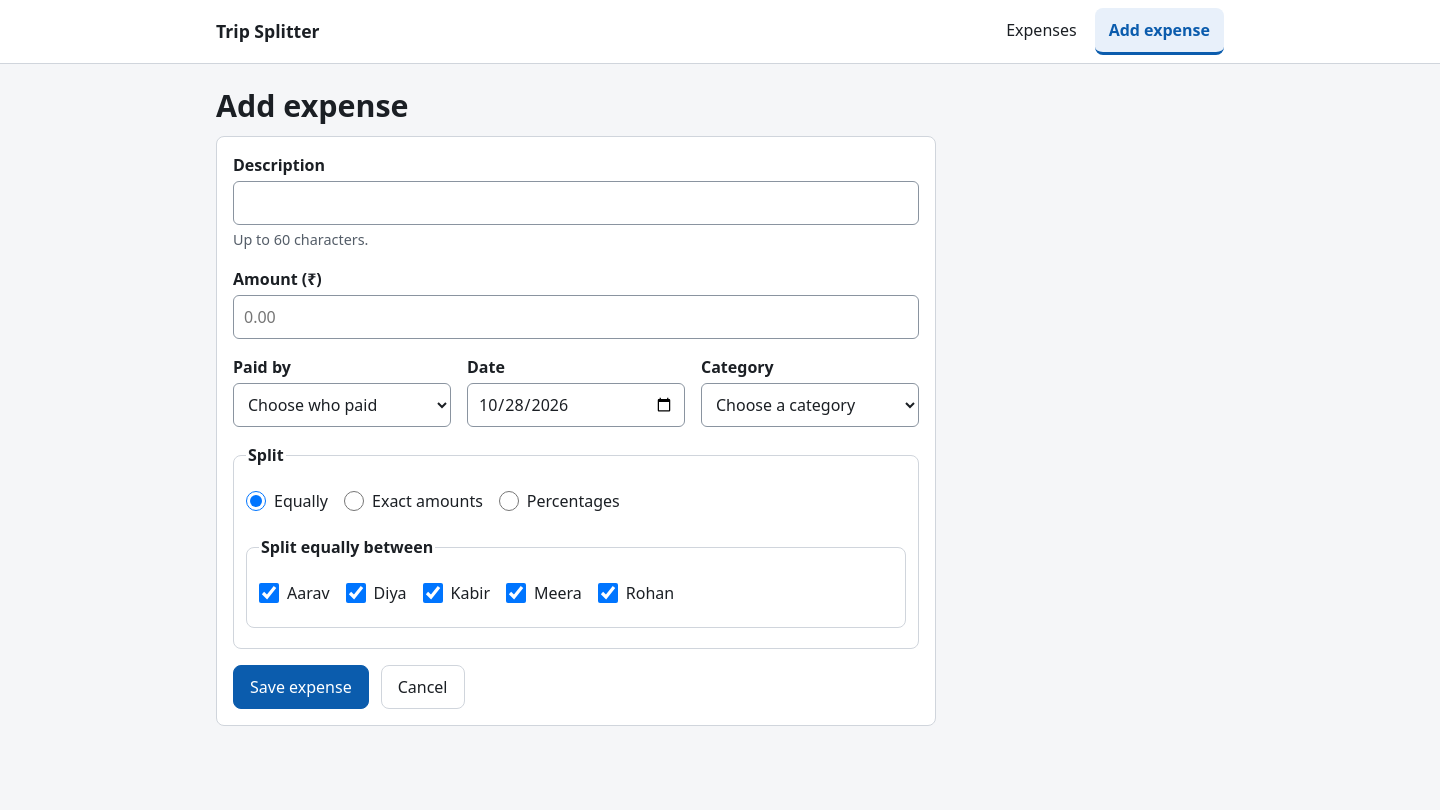
Scenario: Add expense form: valid input › saves the expense, returns to Expenses with a message, and updates balances
The width and height of the screenshot is (1440, 810).
Type "Dinner at Thalassa" into the field labelled "Description" at (576, 204), box top-left (233, 182), bottom-right (919, 226)
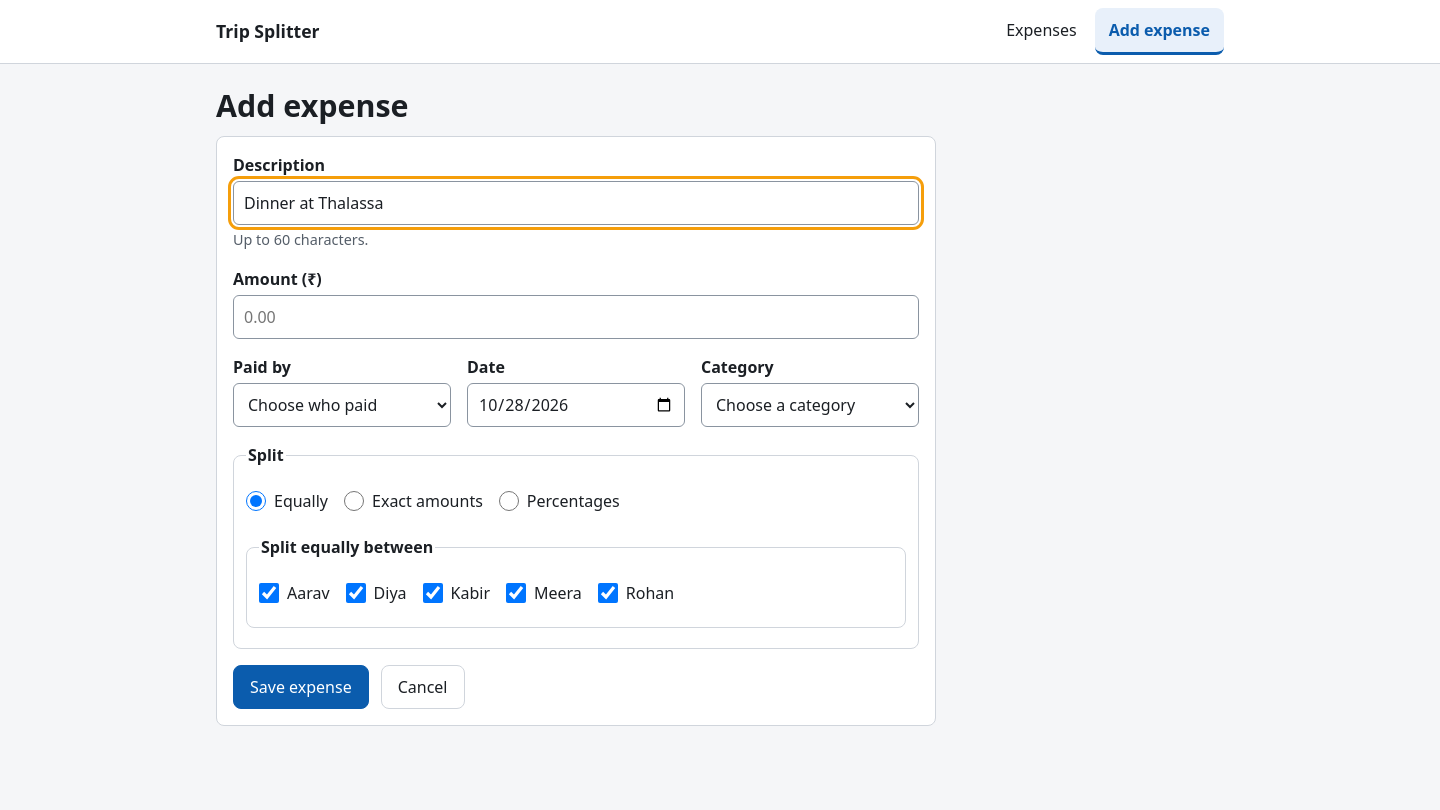
Type "1500" into the field labelled "Amount (₹)" at (576, 317), box top-left (233, 295), bottom-right (919, 339)
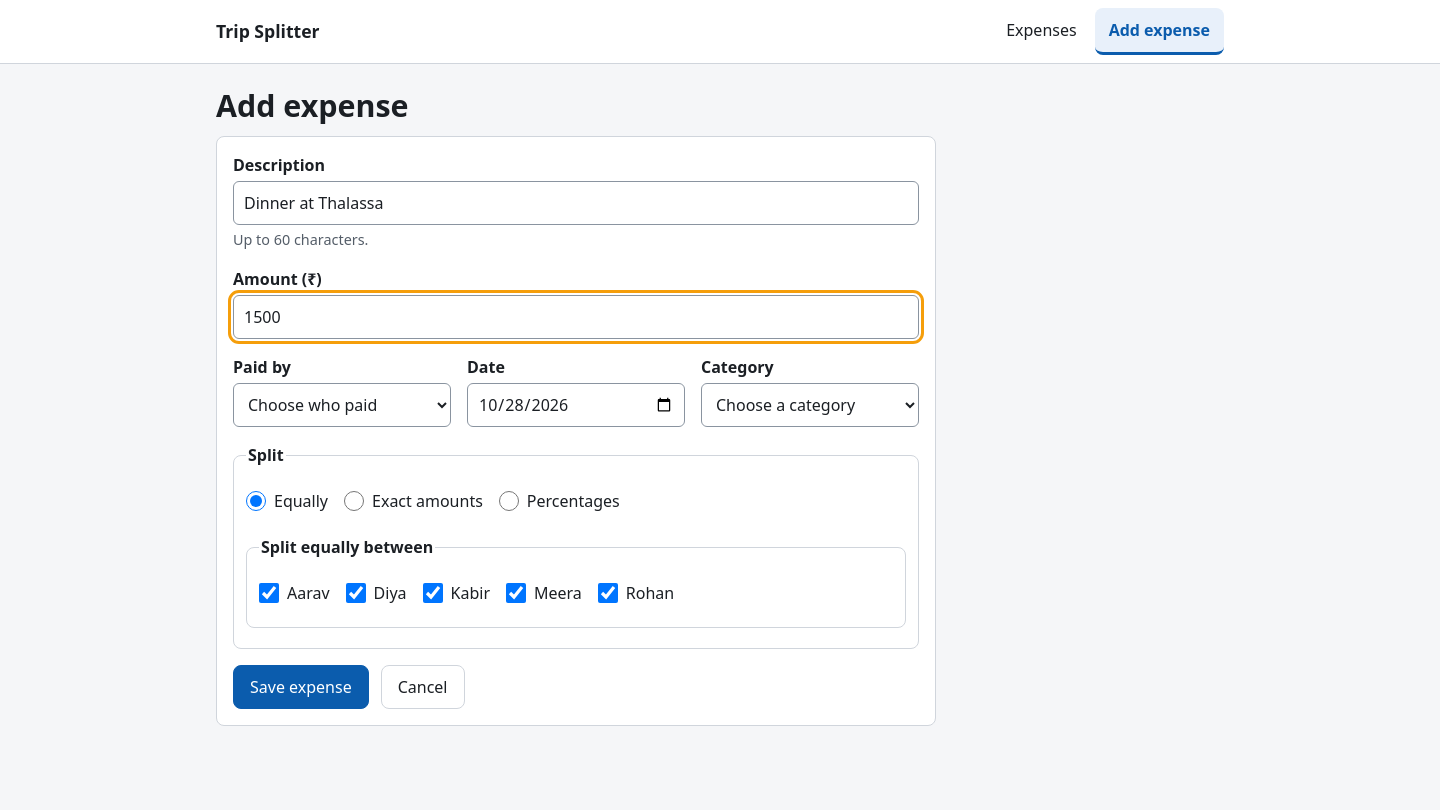
Select "Diya" in the dropdown labelled "Paid by" at (342, 405), box top-left (233, 383), bottom-right (451, 427)
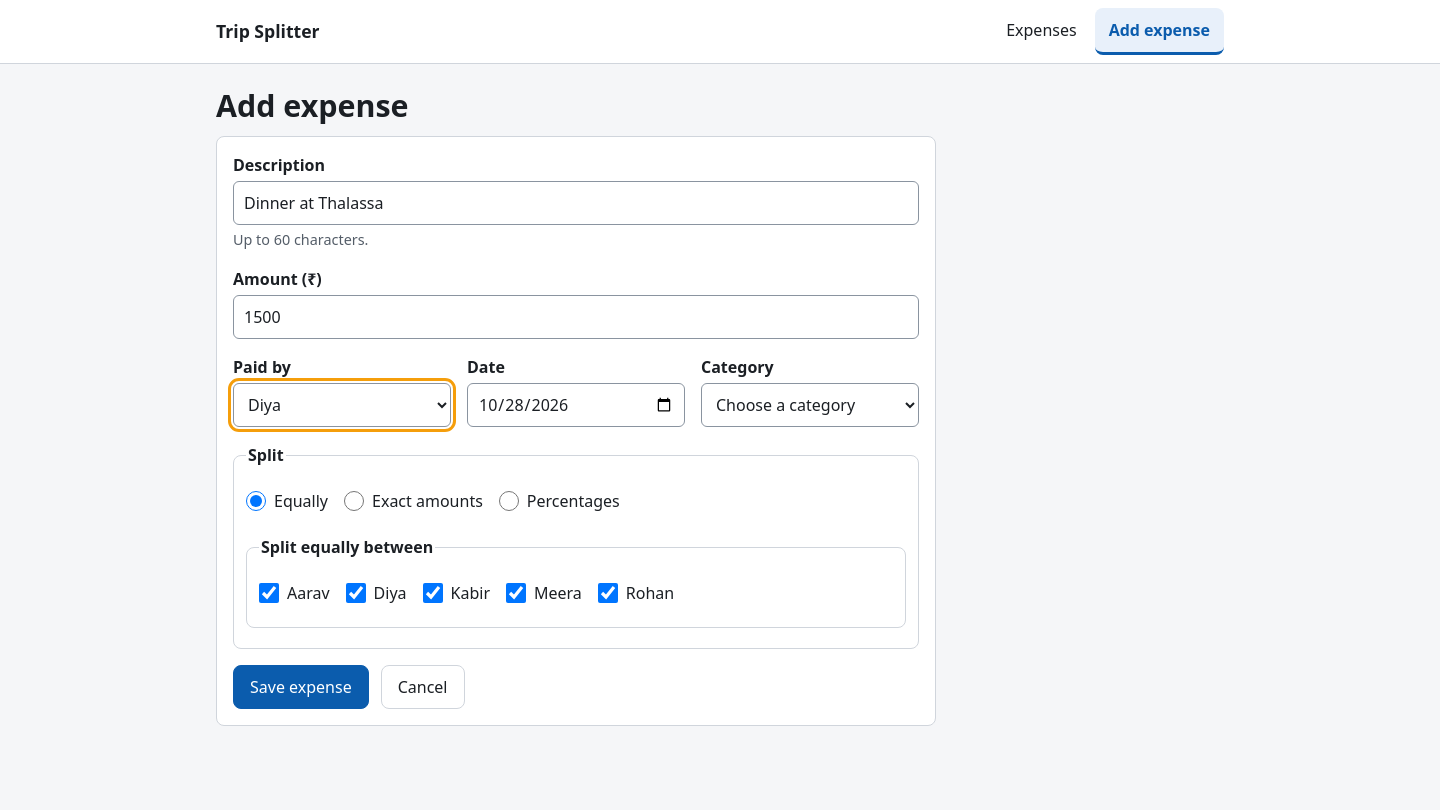
Select "Food" in the dropdown labelled "Category" at (810, 405), box top-left (701, 383), bottom-right (919, 427)
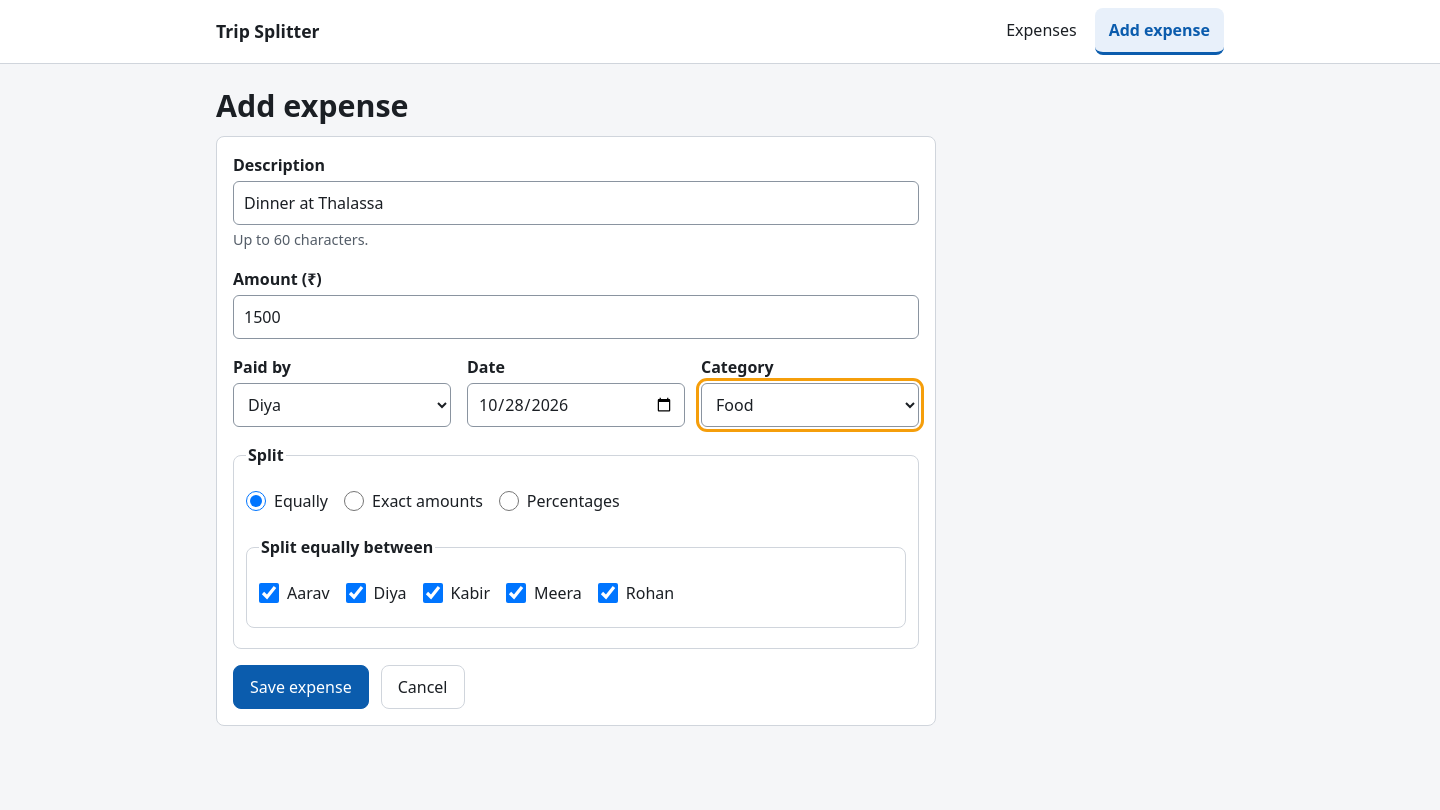
Equal split: everyone is selected by default.
Click the button "Save expense" at (301, 687), box top-left (233, 665), bottom-right (369, 709)
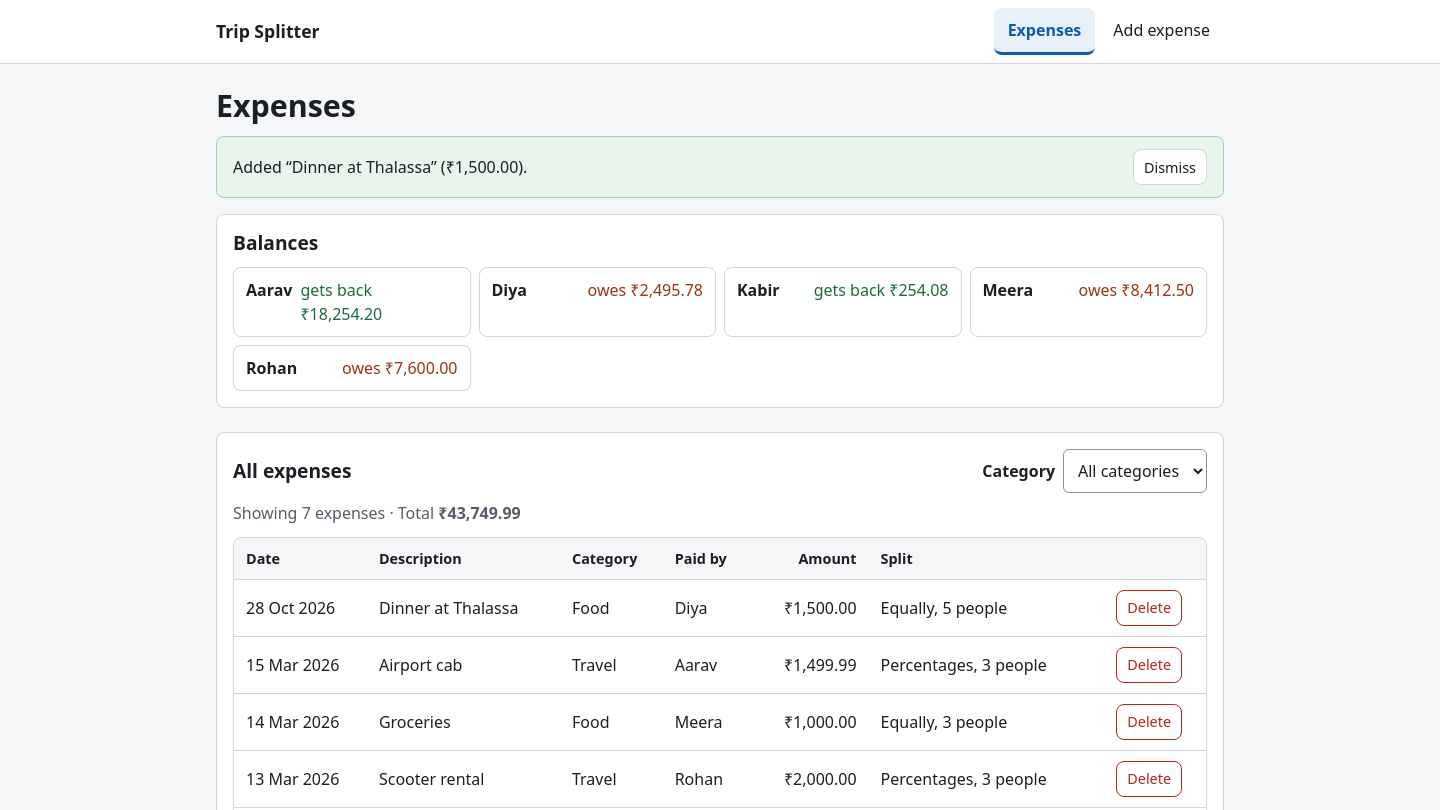
Expected: the heading "Expenses" is shown, top-left (216, 85), bottom-right (356, 126)
Expected: the message shows "Added “Dinner at Thalassa” (₹1,500.00).", top-left (233, 156), bottom-right (527, 178)
Expected: the text "Dinner at Thalassa" is shown, top-left (367, 580), bottom-right (560, 637)
